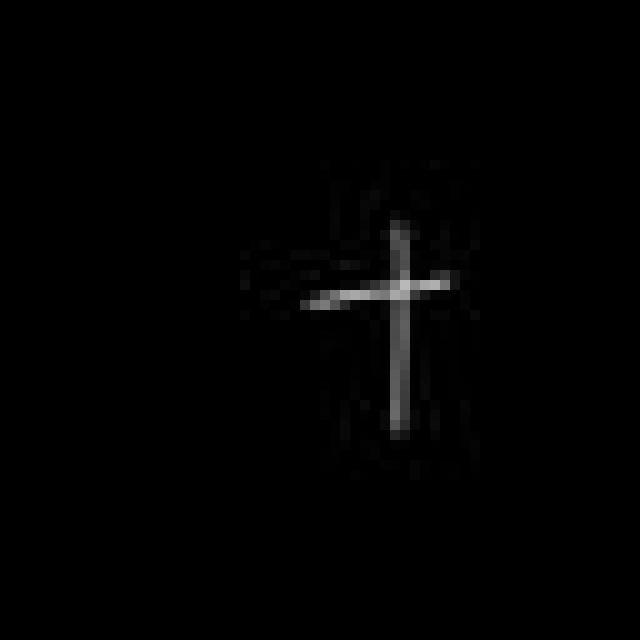10 -ten-: (298, 206, 461, 445)
